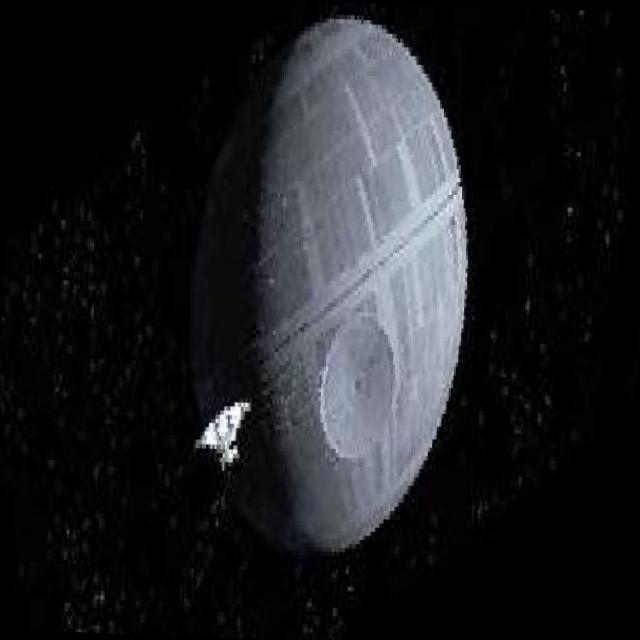Death Star: (172, 15, 479, 556)
